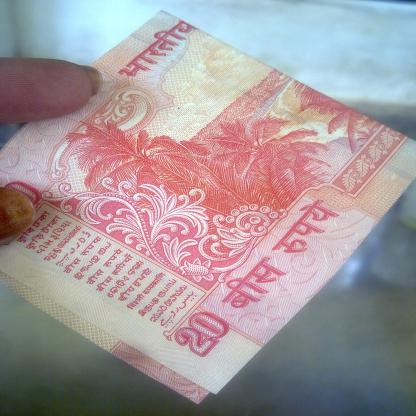Old20Back: (0, 19, 397, 374)
